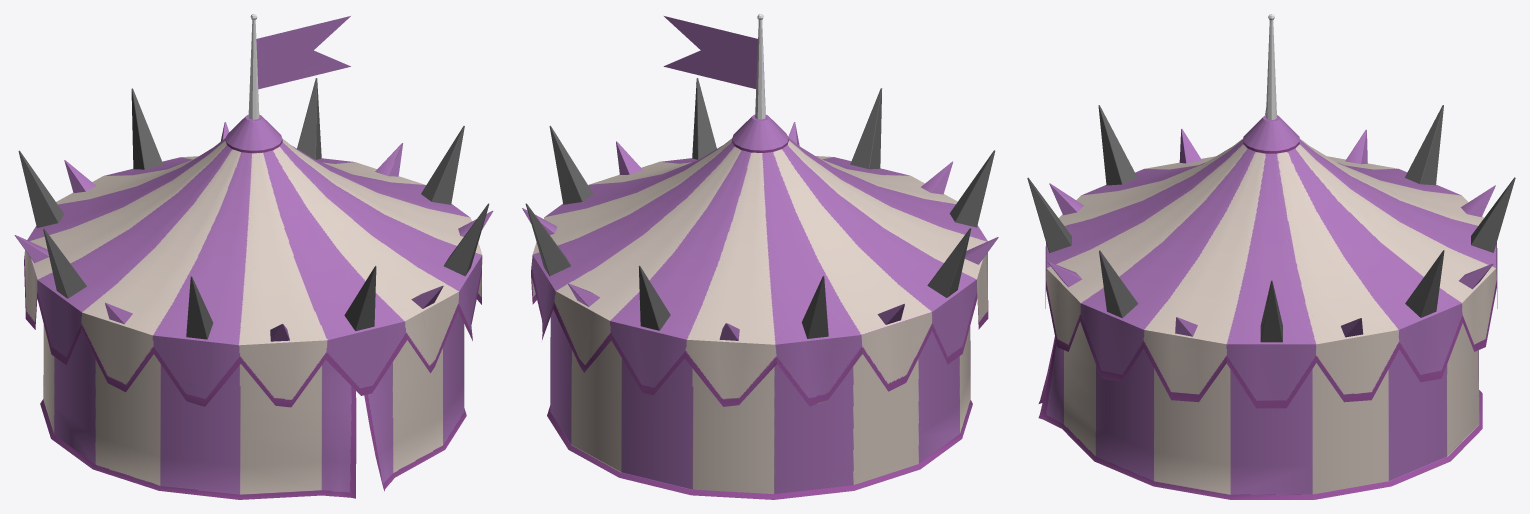
File: BUILDING_DarkHumor_1.fbx
The picture shows the model from 3 angles, left to right: view 1: azimuth 30°, elevation 25°; view 2: azimuth 150°, elevation 25°; view 3: azimuth 270°, elevation 25°; orthographic projection.
Visible parts, largest first — view 1: BUILDING_DarkHumor_1_Baked; view 2: BUILDING_DarkHumor_1_Baked; view 3: BUILDING_DarkHumor_1_Baked.
Boxes of the visible parts, left/top/right/bottom form: BUILDING_DarkHumor_1_Baked: left=14, top=14, right=493, bottom=499; BUILDING_DarkHumor_1_Baked: left=522, top=14, right=998, bottom=499; BUILDING_DarkHumor_1_Baked: left=1027, top=14, right=1515, bottom=499.
Bounding box in the file's own units: 150 × 134 × 150.
Materials: 1 (1 with a texture image).
